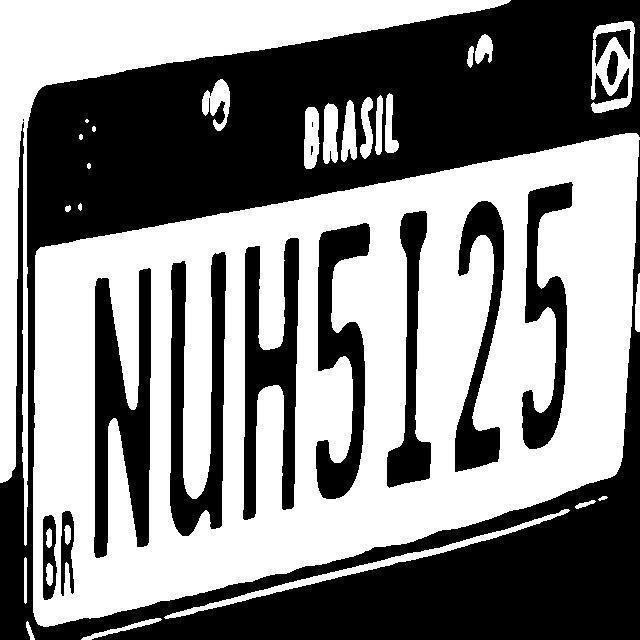2: (447, 192, 514, 474)
5: (313, 222, 371, 499), (522, 180, 578, 454)
h: (238, 247, 302, 519)
i: (380, 204, 438, 490)
n: (88, 250, 160, 556)
u: (161, 230, 233, 530)
